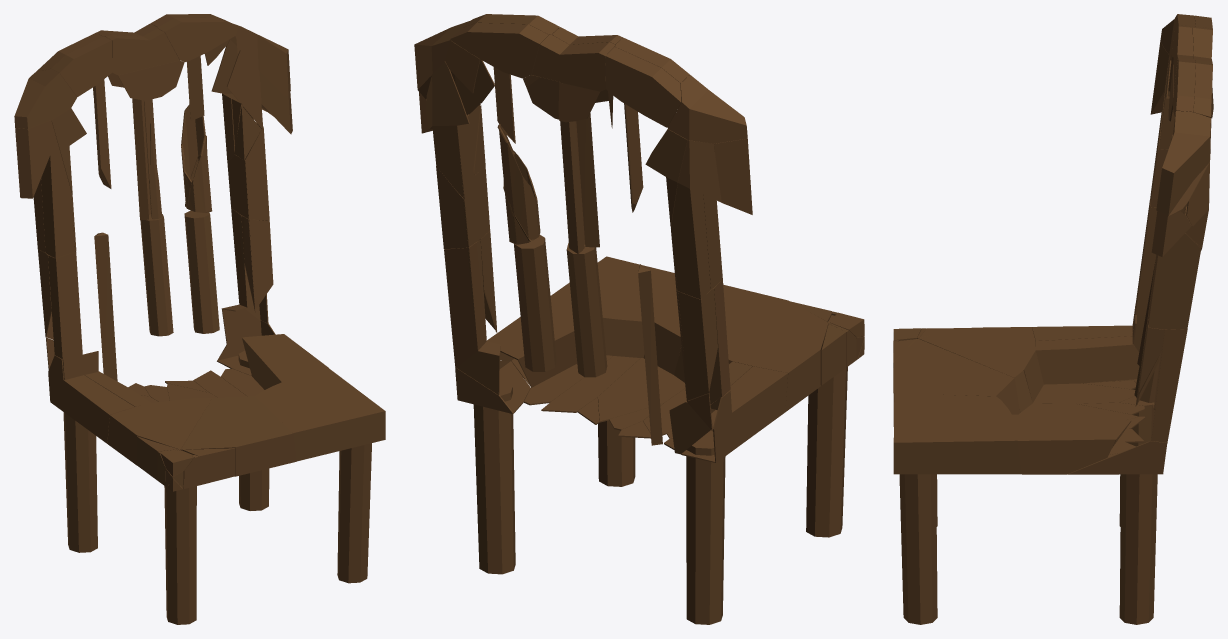
The model's file is chair-pieces.fbx.
The picture shows the model from 3 angles, left to right: view 1: azimuth 30°, elevation 25°; view 2: azimuth 150°, elevation 25°; view 3: azimuth 270°, elevation 25°; orthographic projection. The views are drawn at different scales.
Visible parts, largest first — view 1: chair2_cell.048, chair2_cell.103, chair2_cell.017, chair2-leg3, chair2-leg1, chair2-leg2, chair2_cell.073, chair2_cell.122, chair2_cell.001, chair2_cell.097, chair2_cell.022, chair2_cell.029 (+33 smaller); view 2: chair2-leg2, chair2-leg4, chair2-leg1, chair2_cell.070, chair2_cell.048, chair2_cell.065, chair2_cell.122, chair2_cell.073, chair2_cell.103, chair2_cell.097, chair2_cell.069, chair2_cell.029 (+33 smaller); view 3: chair2_cell.048, chair2_cell.073, chair2-leg3, chair2_cell.022, chair2-leg4, chair2_cell.103, chair2_cell.122, chair2_cell.074, chair2_cell.117, chair2_cell.065, chair2_cell.057, chair2_cell.008 (+14 smaller).
Boxes of the visible parts, x1,y1,x2,y2 form: chair2_cell.048: (255, 368, 385, 461); chair2_cell.103: (181, 396, 296, 476); chair2_cell.017: (15, 120, 76, 258); chair2-leg3: (337, 443, 371, 583); chair2-leg1: (164, 478, 196, 624); chair2-leg2: (63, 412, 97, 552); chair2_cell.073: (48, 355, 151, 443); chair2_cell.122: (107, 398, 212, 465); chair2_cell.001: (48, 251, 98, 379); chair2_cell.097: (184, 210, 219, 333); chair2_cell.022: (242, 334, 328, 389); chair2_cell.029: (140, 214, 173, 336); chair2-leg2: (686, 432, 725, 624); chair2-leg4: (473, 380, 515, 574); chair2-leg1: (806, 367, 847, 537); chair2_cell.070: (671, 140, 721, 299); chair2_cell.048: (550, 256, 677, 357); chair2_cell.065: (444, 239, 500, 395); chair2_cell.122: (674, 322, 828, 411); chair2_cell.073: (681, 361, 787, 462); chair2_cell.103: (643, 284, 827, 374); chair2_cell.097: (514, 235, 556, 371); chair2_cell.069: (426, 61, 473, 199); chair2_cell.029: (566, 243, 607, 377); chair2_cell.048: (893, 393, 1021, 474); chair2_cell.073: (1032, 315, 1145, 384); chair2-leg3: (899, 474, 937, 624); chair2_cell.022: (1012, 414, 1131, 474); chair2-leg4: (1119, 474, 1157, 624); chair2_cell.103: (893, 338, 1020, 426); chair2_cell.122: (918, 327, 1043, 412); chair2_cell.074: (1156, 111, 1210, 215); chair2_cell.117: (1148, 233, 1201, 329); chair2_cell.065: (1151, 329, 1187, 442); chair2_cell.057: (1067, 441, 1167, 474); chair2_cell.008: (1033, 383, 1135, 403).
Bounding box in the file's own units: 2.73 × 4.58 × 2.52.
